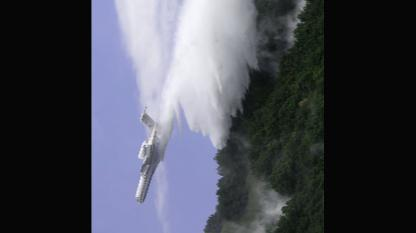B52: (135, 104, 162, 204)
